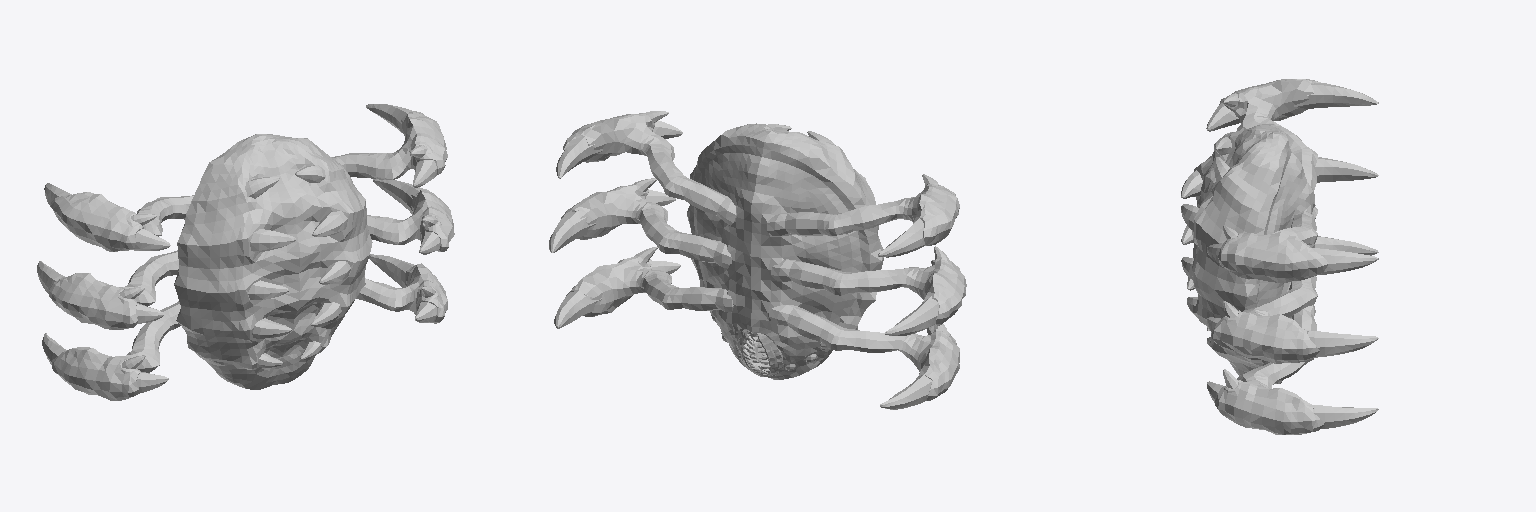
File: spider_lite_.obj
3 views of the same model, side by side, from view 1: azimuth 30°, elevation 25°; view 2: azimuth 150°, elevation 25°; view 3: azimuth 270°, elevation 25° (orthographic).
Visible parts, largest first — view 1: spider_lite__main.002; view 2: spider_lite__main.002; view 3: spider_lite__main.002.
Boxes of the visible parts, x1,y1,x2,y2 form: spider_lite__main.002: [37, 104, 454, 400]; spider_lite__main.002: [549, 111, 966, 409]; spider_lite__main.002: [1181, 79, 1378, 434].
Size of the model in its own units: 45.56 by 27.65 by 20.25.